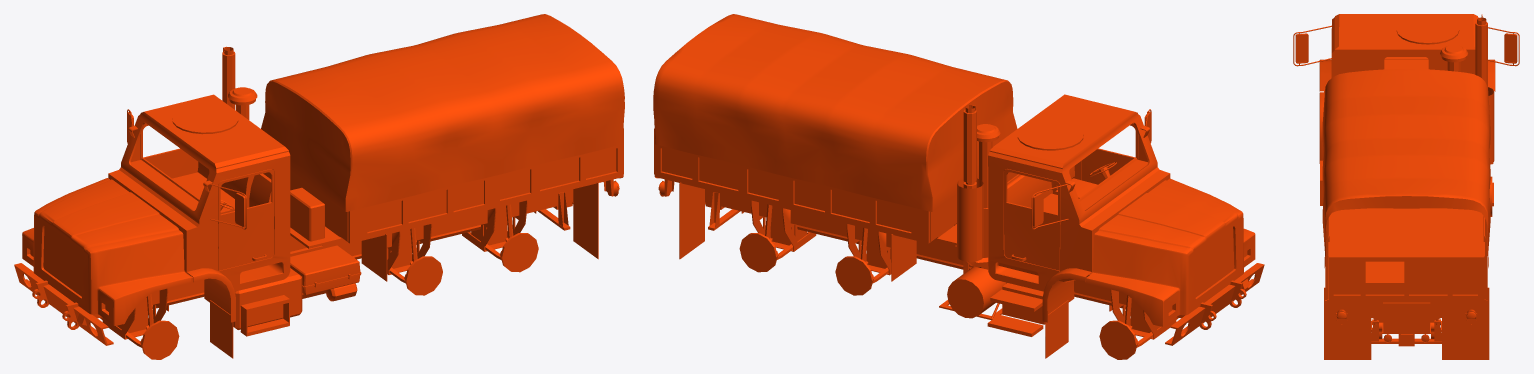
Rendered from truck01.FBX.
3 renders of one model, left to right at view 1: azimuth 30°, elevation 25°; view 2: azimuth 150°, elevation 25°; view 3: azimuth 270°, elevation 25°, orthographic. The views are drawn at different scales.
Visible parts, largest first — view 1: Object023; view 2: Object023; view 3: Object023.
Boxes of the visible parts, x1,y1,x2,y2 form: Object023: [14, 14, 624, 359]; Object023: [653, 14, 1264, 359]; Object023: [1293, 14, 1519, 359].
Size of the model in its own units: 7.48 by 3.09 by 2.89.
